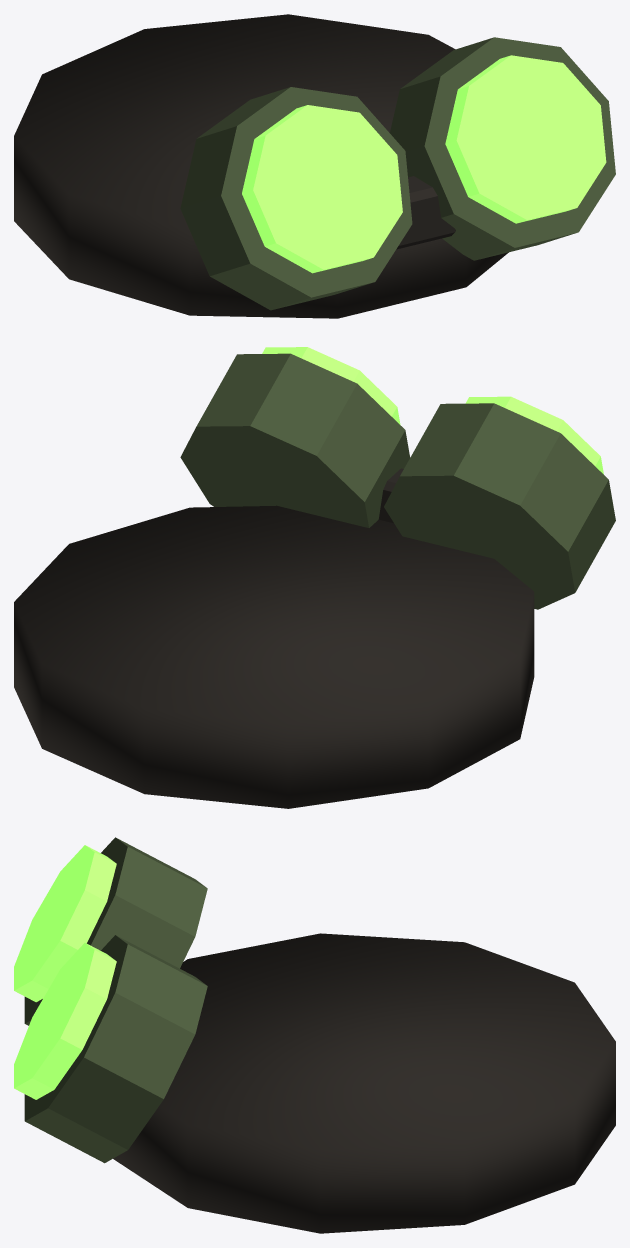
File: npc_goggles_green.glb
3 renders of one model, top to bottom at view 1: azimuth 30°, elevation 25°; view 2: azimuth 150°, elevation 25°; view 3: azimuth 270°, elevation 25°, orthographic.
Visible parts, largest first — view 1: part.npc_goggles_green; view 2: part.npc_goggles_green; view 3: part.npc_goggles_green.
Part boxes in pixels (x1,y1,x2,y2): part.npc_goggles_green: [14, 14, 615, 318]; part.npc_goggles_green: [14, 347, 615, 808]; part.npc_goggles_green: [14, 837, 615, 1233].
Bounding box in the file's own units: 0.2217 × 0.1098 × 0.2606.
